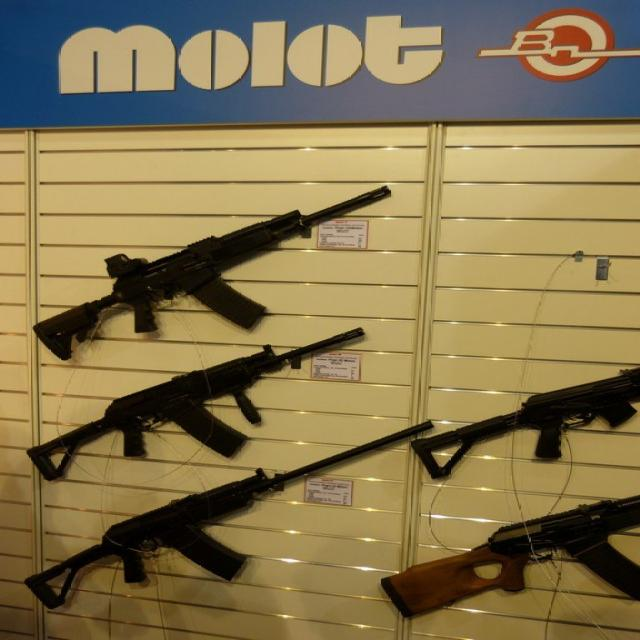firearm: (26, 420, 436, 613), (34, 184, 392, 360), (27, 328, 362, 483), (385, 493, 638, 618), (416, 366, 640, 480)
